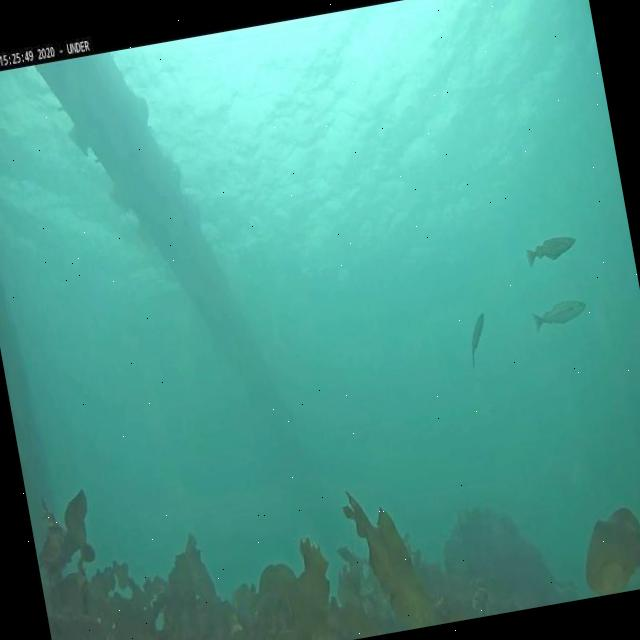fish: (531, 297, 589, 331), (523, 232, 578, 264), (464, 312, 492, 367)
